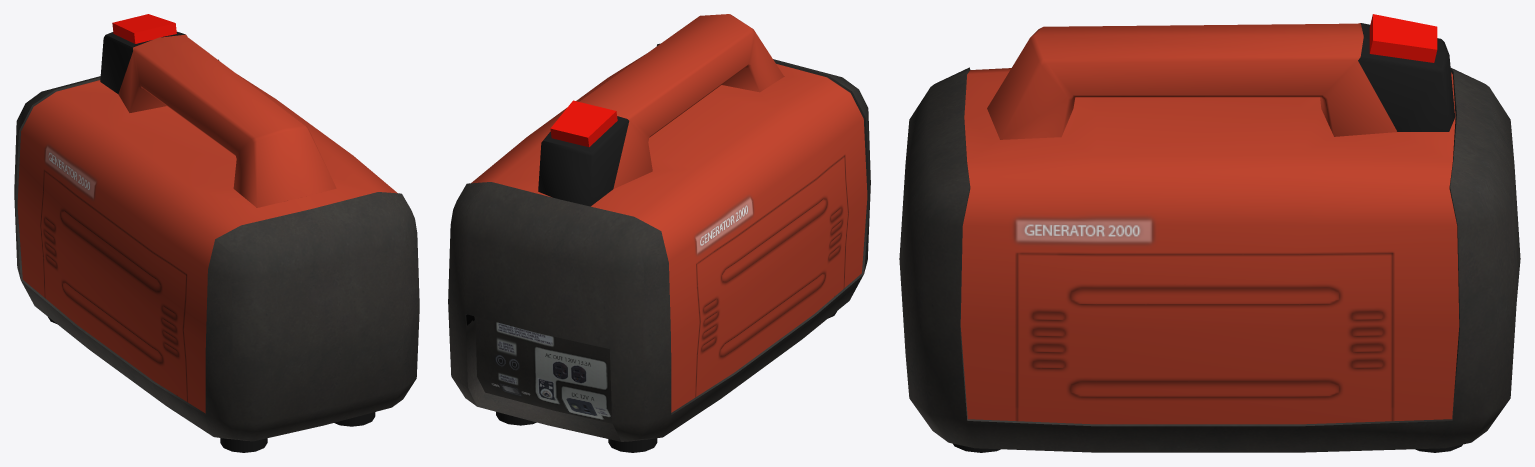
File: Generator.FBX
3 renders of one model, left to right at view 1: azimuth 30°, elevation 25°; view 2: azimuth 150°, elevation 25°; view 3: azimuth 270°, elevation 25°, orthographic. The views are drawn at different scales.
Parts seen in each view (by area): view 1: Box001; view 2: Box001; view 3: Box001.
Part boxes in pixels (<box>): Box001: <box>14,14,419,452</box>; Box001: <box>448,14,870,452</box>; Box001: <box>899,14,1520,452</box>.
Size of the model in its own units: 28.38 by 35.3 by 52.
